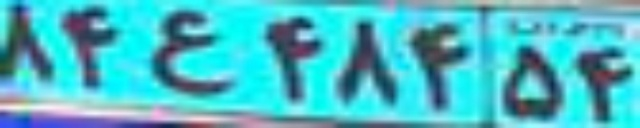4: (402, 22, 469, 108), (61, 7, 129, 87), (262, 16, 326, 99), (569, 49, 637, 120)
5: (497, 45, 562, 118)
8: (332, 20, 403, 105), (0, 3, 54, 81)
ain: (151, 9, 239, 94)
